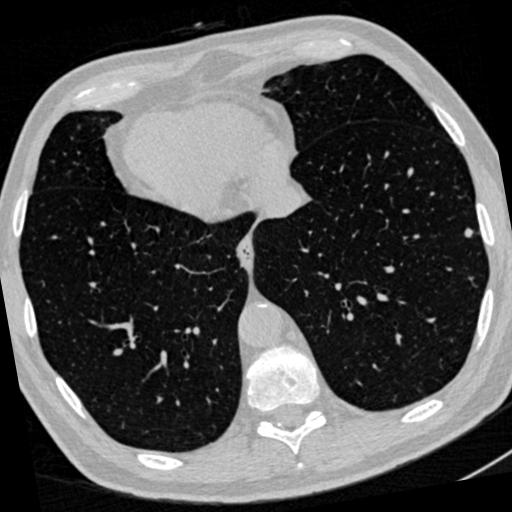nodule: (463, 225, 478, 240)
